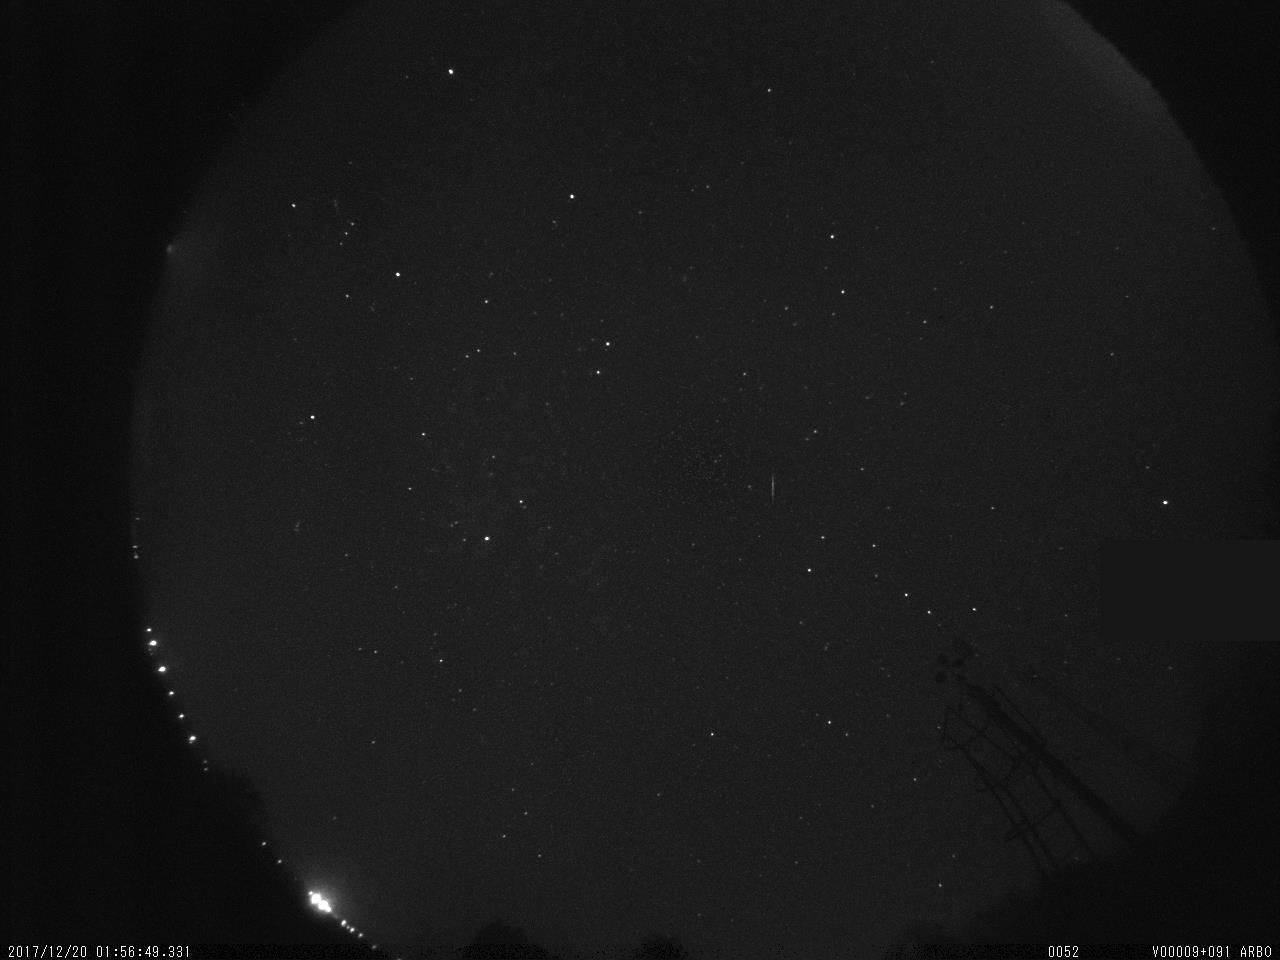meteor: (762, 471, 783, 507)
